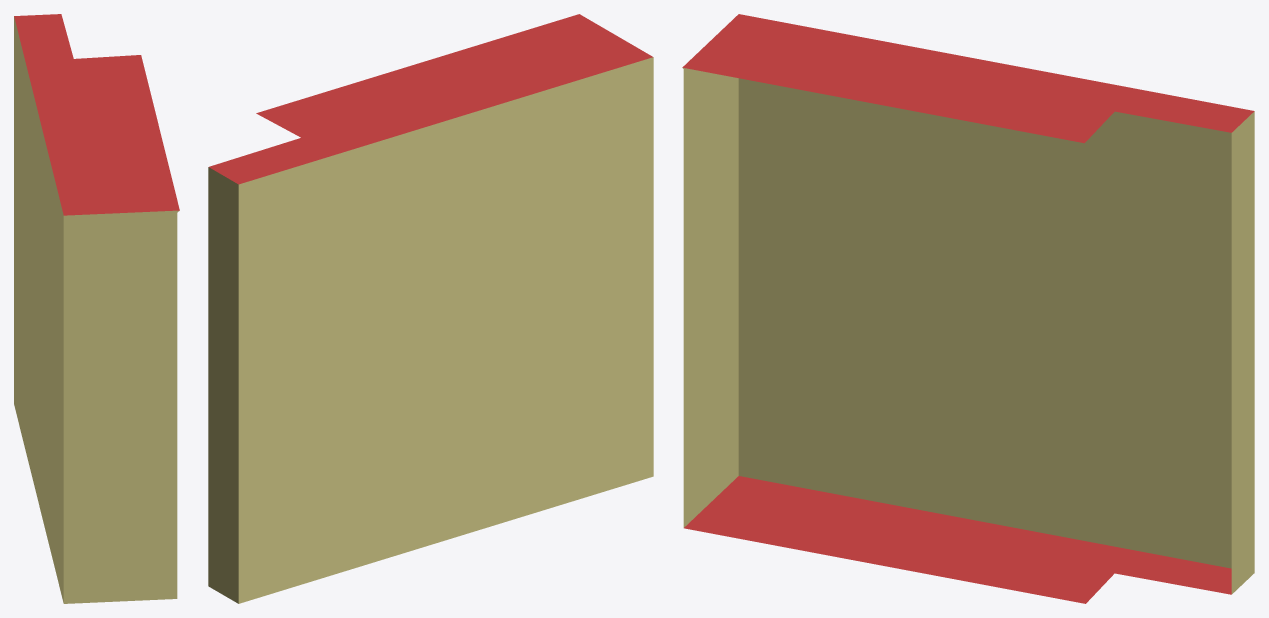
The picture shows the model from 3 angles, left to right: view 1: azimuth 30°, elevation 25°; view 2: azimuth 150°, elevation 25°; view 3: azimuth 270°, elevation 25°; orthographic projection. The views are drawn at different scales.
Bounding box in the file's own units: 5.32 × 9.95 × 8.86.
